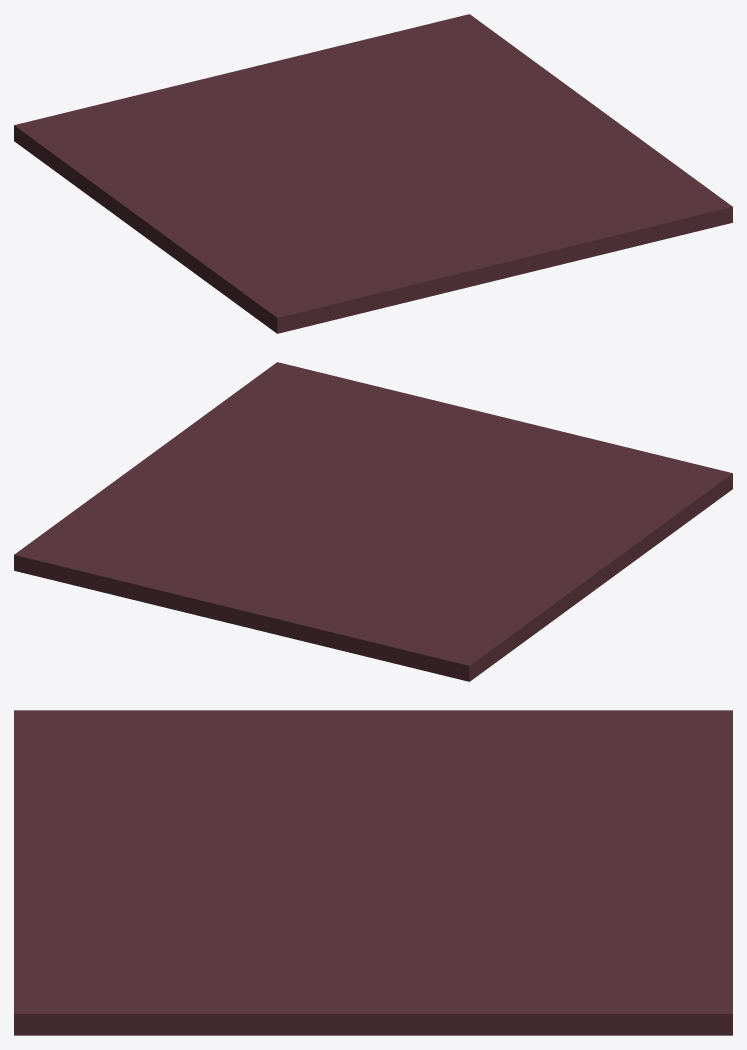
The model's file is empire-pavement-mosaic-3x3m-wave-empire.glb.
3 views of the same model, one above another, from view 1: azimuth 30°, elevation 25°; view 2: azimuth 150°, elevation 25°; view 3: azimuth 270°, elevation 25° (orthographic). The views are drawn at different scales.
Visible parts, largest first — view 1: SM_Pavement_Mosaic_3x3m_Wave_Empire; view 2: SM_Pavement_Mosaic_3x3m_Wave_Empire; view 3: SM_Pavement_Mosaic_3x3m_Wave_Empire.
Boxes of the visible parts, x1=… form: SM_Pavement_Mosaic_3x3m_Wave_Empire: x1=14, y1=14, x2=732, y2=333; SM_Pavement_Mosaic_3x3m_Wave_Empire: x1=14, y1=362, x2=732, y2=681; SM_Pavement_Mosaic_3x3m_Wave_Empire: x1=14, y1=710, x2=732, y2=1035.
Bounding box in the file's own units: 3 × 0.1 × 3.
